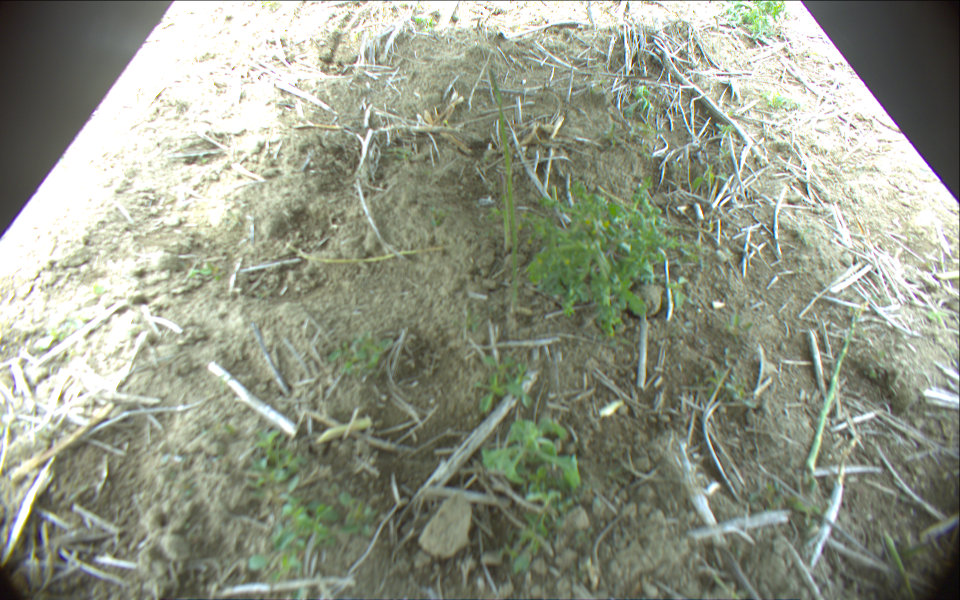aspa: (805, 301, 865, 472), (491, 69, 526, 326), (883, 531, 916, 600)
